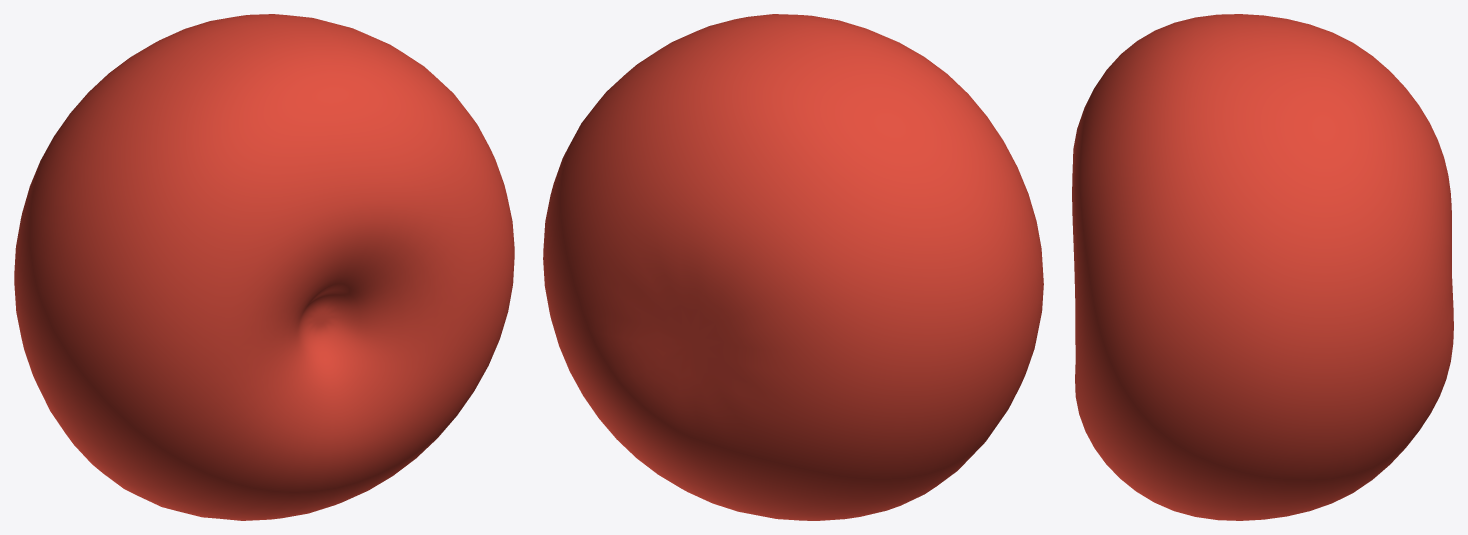
The model's file is TomatoFlesh.obj.
3 renders of one model, left to right at view 1: azimuth 30°, elevation 25°; view 2: azimuth 150°, elevation 25°; view 3: azimuth 270°, elevation 25°, orthographic.
Parts seen in each view (by area): view 1: TomatoFlesh; view 2: TomatoFlesh; view 3: TomatoFlesh.
Part boxes in pixels (x1,y1,x2,y2): TomatoFlesh: [14, 14, 514, 520]; TomatoFlesh: [543, 14, 1043, 520]; TomatoFlesh: [1072, 14, 1453, 520].
Size of the model in its own units: 0.0719 by 0.0705 by 0.0531.
